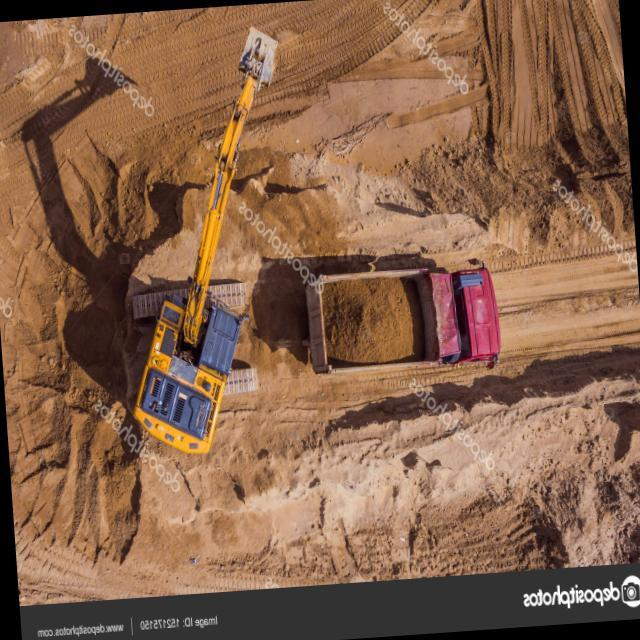excavator: (133, 27, 278, 457)
